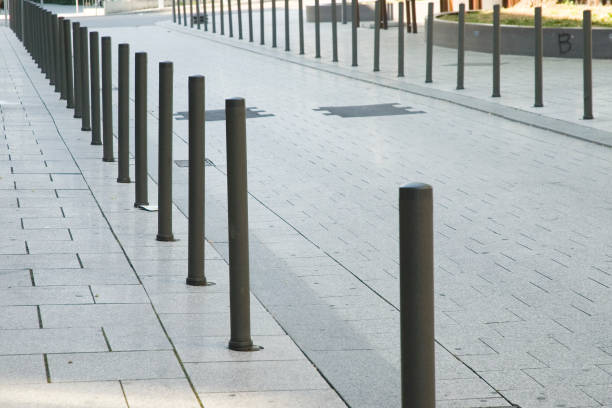bollard: (225, 94, 257, 361), (183, 69, 211, 290), (156, 57, 172, 241), (133, 51, 150, 214)
